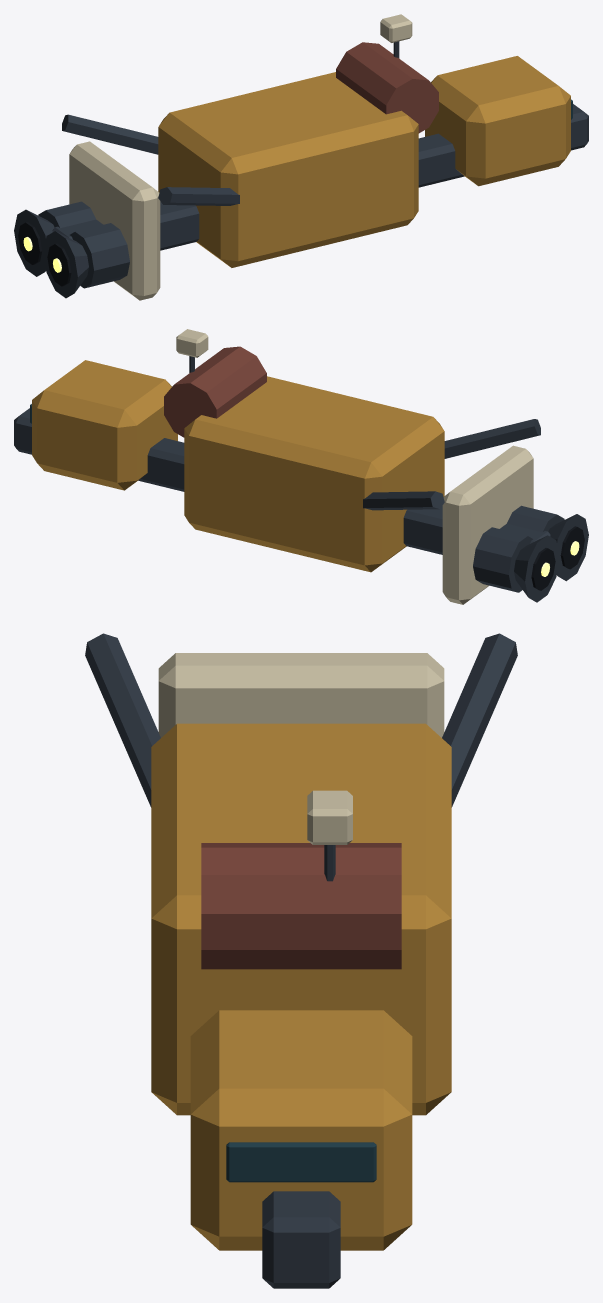
The model's file is yard-dog.glb.
The picture shows the model from 3 angles, top to bottom: view 1: azimuth 30°, elevation 25°; view 2: azimuth 150°, elevation 25°; view 3: azimuth 270°, elevation 25°; orthographic projection. The views are drawn at different scales.
Visible parts, largest first — view 1: machinery block, forward command, reactor shield, tow winch, structural spine, engine jacket, towing arm.001, engine bell, towing arm, engine bell.001, engine jacket.001, sensor head (+2 smaller); view 2: machinery block, forward command, reactor shield, tow winch, structural spine, engine jacket.001, towing arm, engine bell.001, towing arm.001, engine bell, engine jacket, sensor head (+2 smaller); view 3: machinery block, forward command, tow winch, reactor shield, structural spine, bridge glazing, towing arm, towing arm.001, sensor head.
Part boxes in pixels (x1,y1,x2,y2): machinery block: (158,72,418,267); forward command: (425,56,570,186); reactor shield: (69,141,160,300); tow winch: (336,42,438,133); structural spine: (52,104,588,250); engine jacket: (70,223,129,288); towing arm.001: (62,114,158,154); engine bell: (43,231,88,298); towing arm: (158,187,239,205); engine bell.001: (14,209,54,276); engine jacket.001: (38,201,95,227); sensor head: (380,14,412,42); machinery block: (184,376,444,572); forward command: (32,360,177,490); reactor shield: (442,445,533,604); tow winch: (164,346,266,437); structural spine: (14,408,550,554); engine jacket.001: (473,527,532,592); towing arm: (444,419,540,458); engine bell.001: (514,535,559,602); towing arm.001: (363,491,444,510); engine bell: (548,514,588,581); engine jacket: (507,505,564,532); sensor head: (176,329,208,357); machinery block: (151,723,451,1115); forward command: (190,1010,412,1250); tow winch: (201,843,401,969); reactor shield: (158,653,444,737); structural spine: (262,1191,340,1288); bridge glazing: (226,1142,376,1182); towing arm: (85,633,160,807); towing arm.001: (442,633,517,807); sensor head: (307,790,352,844).
Size of the model in its own units: 8.73 by 2.79 by 3.03.
